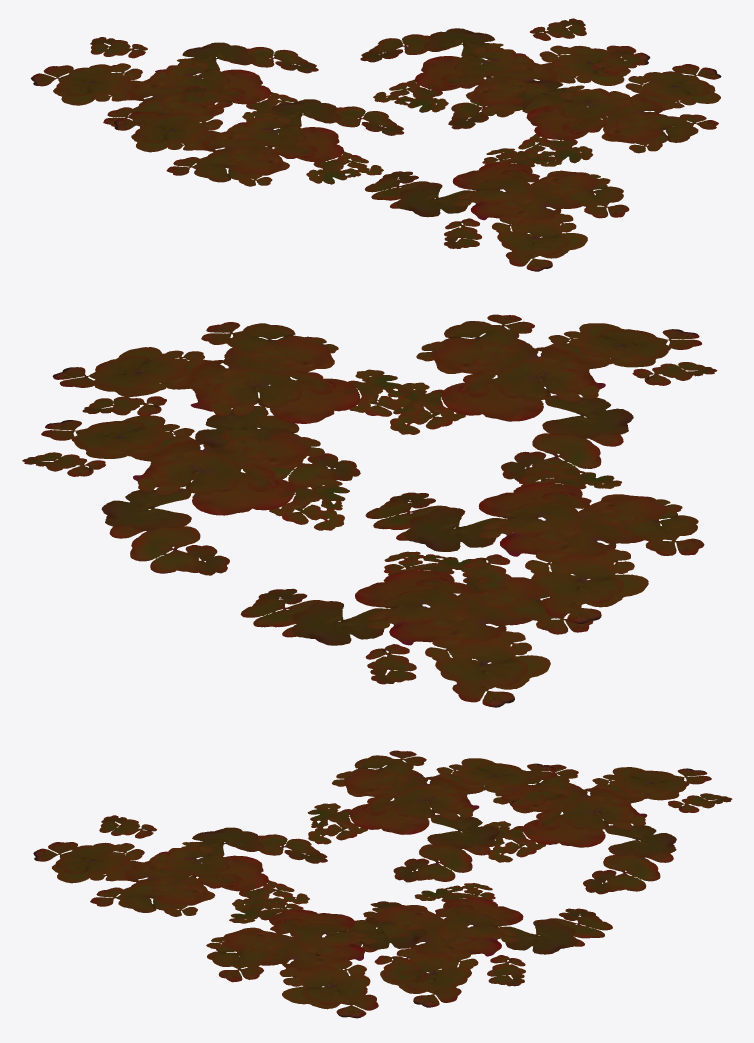
3 views of the same model, one above another, from view 1: azimuth 30°, elevation 25°; view 2: azimuth 150°, elevation 25°; view 3: azimuth 270°, elevation 25° (orthographic). The views are drawn at different scales.
Parts seen in each view (by area): view 1: SM_DR_Sorrel_D_LOD0; view 2: SM_DR_Sorrel_D_LOD0; view 3: SM_DR_Sorrel_D_LOD0.
Boxes of the visible parts, left/top/right/bottom form: SM_DR_Sorrel_D_LOD0: left=31, top=18, right=721, bottom=271; SM_DR_Sorrel_D_LOD0: left=22, top=314, right=717, bottom=707; SM_DR_Sorrel_D_LOD0: left=33, top=750, right=732, bottom=1018.
Size of the model in its own units: 0.782 by 0.0452 by 0.8798.
1 material, 1 textured.
